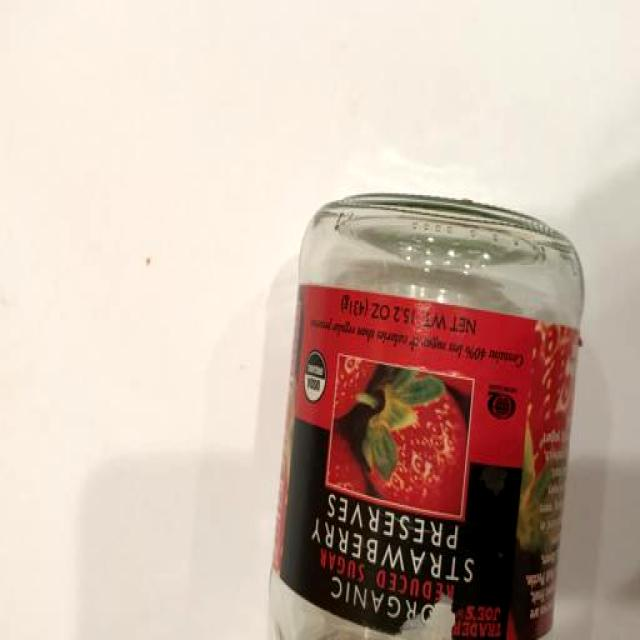Glass: (264, 186, 580, 640)
